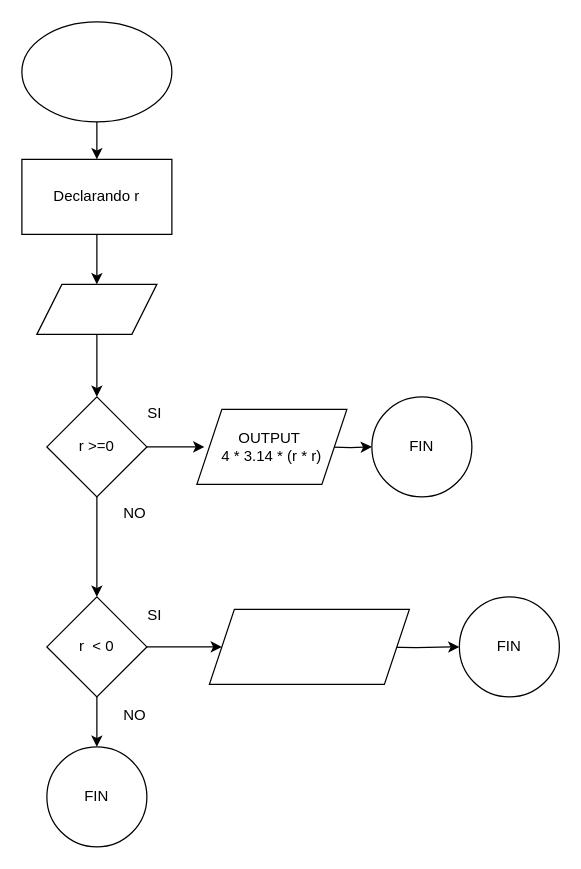
This 581x869 diagram has some shape labels left out. Here are the shapes that lost their labels. From the top down, the box of each, then its label:
(21, 21, 172, 122): INICIO
(36, 283, 157, 334): INPUT r
(208, 608, 409, 684): OUTPUT " Error: Radius cannot be negative."
